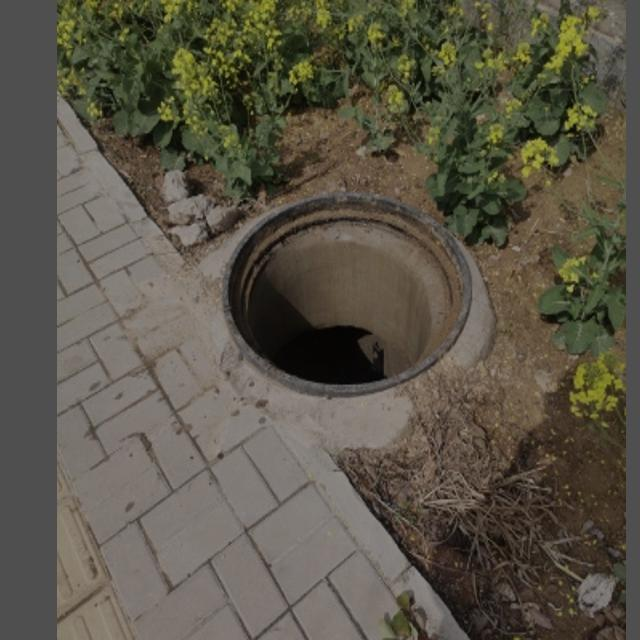lose: (202, 168, 483, 395)
